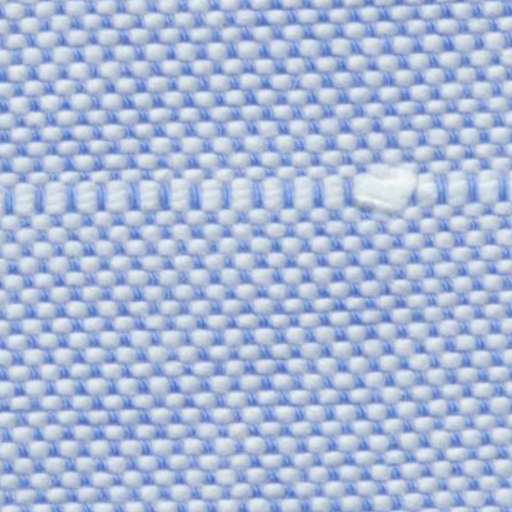MianQiu: (336, 142, 436, 235)
